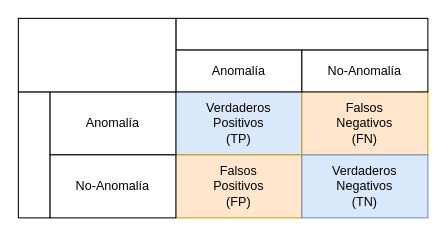
Image size: 446x236. Some labels were removed from this diagram. Each missing label, with the centre of its shape:
"Conjunto de datos" belongs at pixel 33 154.
"Predicciones" belongs at pixel 301 33.
